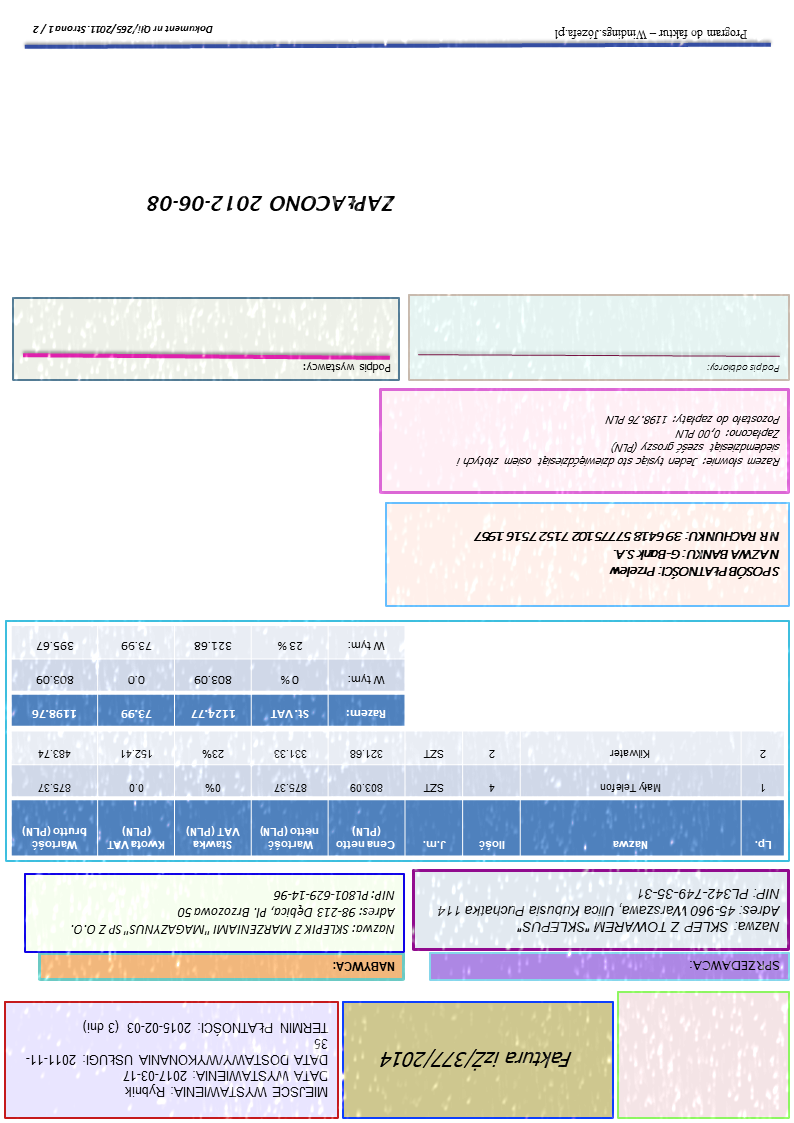Table: (10, 729, 786, 859), (9, 624, 408, 729)
TextBox: (22, 1016, 331, 1103), (450, 412, 782, 471), (436, 883, 783, 937), (472, 525, 783, 583), (68, 886, 398, 940), (146, 191, 397, 217), (376, 1046, 577, 1073), (554, 24, 750, 46), (30, 21, 216, 40), (688, 958, 785, 976), (301, 359, 395, 377), (706, 360, 783, 379), (332, 957, 399, 978)
